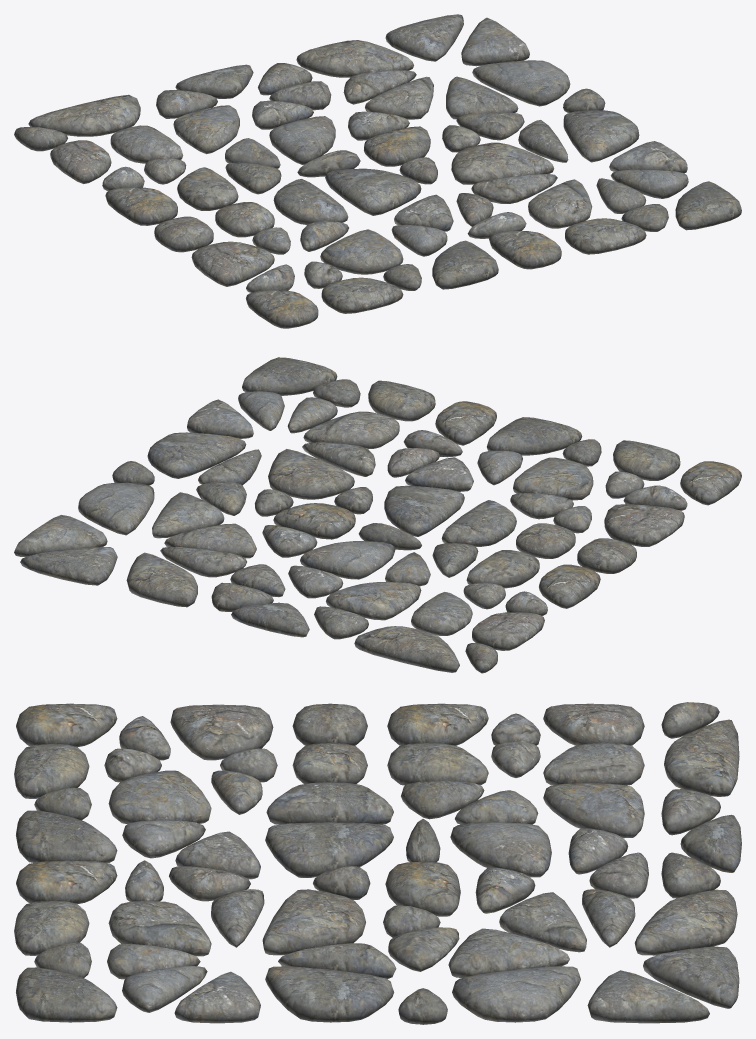
3 views of the same model, one above another, from view 1: azimuth 30°, elevation 25°; view 2: azimuth 150°, elevation 25°; view 3: azimuth 270°, elevation 25° (orthographic). The views are drawn at different scales.
Visible parts, largest first — view 1: RocksAsset.045_45, RocksAsset.044_44, RocksAsset.059_59, RocksAsset.011_11, RocksAsset.043_43, RocksAsset.035_35, RocksAsset.031_31, RocksAsset.014_14, RocksAsset.046_46, RocksAsset.001_1, RocksAsset.034_34, RocksAsset.018_18 (+49 smaller); view 2: RocksAsset.035_35, RocksAsset.059_59, RocksAsset.043_43, RocksAsset.044_44, RocksAsset.045_45, RocksAsset.011_11, RocksAsset.031_31, RocksAsset.046_46, RocksAsset.048_48, RocksAsset.018_18, RocksAsset.034_34, RocksAsset.001_1 (+49 smaller); view 3: RocksAsset.045_45, RocksAsset.035_35, RocksAsset.044_44, RocksAsset.043_43, RocksAsset.011_11, RocksAsset.031_31, RocksAsset.008_8, RocksAsset.059_59, RocksAsset.012_12, RocksAsset.001_1, RocksAsset.014_14, RocksAsset.048_48 (+49 smaller).
Part boxes in pixels (x1,y1,x2,y2): RocksAsset.045_45: [472, 60, 570, 106]; RocksAsset.044_44: [325, 168, 421, 215]; RocksAsset.059_59: [28, 94, 140, 136]; RocksAsset.011_11: [296, 40, 413, 77]; RocksAsset.043_43: [451, 142, 554, 184]; RocksAsset.035_35: [563, 110, 639, 162]; RocksAsset.031_31: [191, 241, 274, 286]; RocksAsset.014_14: [320, 229, 403, 274]; RocksAsset.046_46: [385, 14, 463, 61]; RocksAsset.001_1: [675, 181, 741, 230]; RocksAsset.034_34: [432, 240, 498, 289]; RocksAsset.018_18: [173, 105, 239, 154]; RocksAsset.035_35: [147, 432, 246, 478]; RocksAsset.059_59: [354, 626, 459, 672]; RocksAsset.043_43: [268, 449, 354, 499]; RocksAsset.044_44: [384, 485, 464, 536]; RocksAsset.045_45: [78, 482, 154, 535]; RocksAsset.011_11: [126, 552, 197, 607]; RocksAsset.031_31: [604, 504, 684, 546]; RocksAsset.046_46: [20, 546, 117, 585]; RocksAsset.048_48: [300, 541, 395, 579]; RocksAsset.018_18: [326, 582, 421, 620]; RocksAsset.034_34: [487, 417, 582, 455]; RocksAsset.001_1: [242, 357, 337, 395]; RocksAsset.045_45: [452, 966, 580, 1022]; RocksAsset.035_35: [265, 966, 394, 1022]; RocksAsset.044_44: [265, 822, 393, 877]; RocksAsset.043_43: [262, 889, 365, 955]; RocksAsset.011_11: [634, 889, 737, 955]; RocksAsset.031_31: [170, 704, 273, 760]; RocksAsset.008_8: [587, 970, 709, 1023]; RocksAsset.059_59: [664, 719, 739, 796]; RocksAsset.012_12: [266, 782, 393, 824]; RocksAsset.001_1: [16, 967, 117, 1022]; RocksAsset.014_14: [108, 770, 211, 823]; RocksAsset.048_48: [450, 822, 551, 877].
Bounding box in the file's own units: 1.95 × 0.0899 × 1.94.
Materials: 1 (1 with a texture image).
